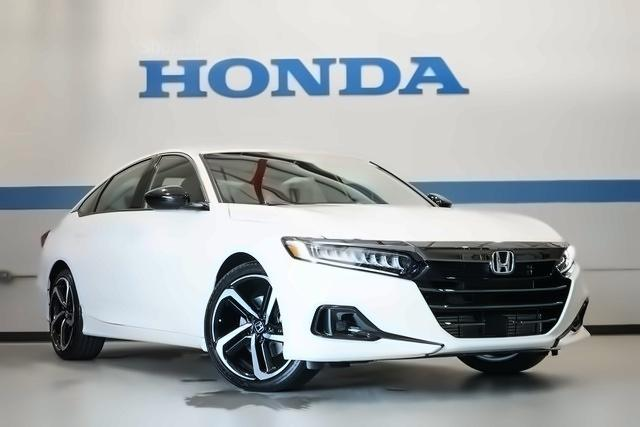Car hood: (226, 200, 567, 244)
Driver-s door - -F-R-: (134, 151, 203, 337)
Fender - -F-R-: (204, 203, 288, 351)
Fender - -R-R-: (45, 223, 84, 337)
Front bumper: (270, 272, 604, 360)
Headlight - -R-: (278, 233, 431, 285), (553, 240, 581, 283)
Passenger-s door - -R-R-: (75, 155, 133, 328)
Rear bumper: (34, 262, 56, 333)
Rear light - -R-: (38, 223, 54, 251)
Side bumper - -R-: (77, 313, 212, 359)
Side mirror - -L-: (423, 187, 458, 213)
Side mirror - -R-: (139, 183, 198, 216)
